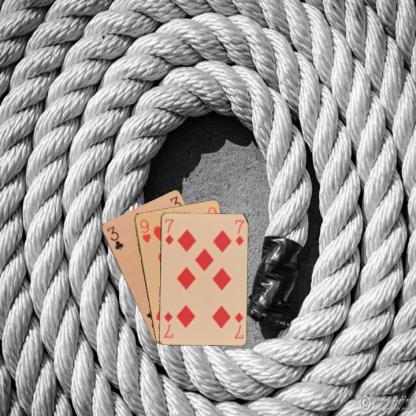3c: (104, 223, 124, 251)
7d: (162, 217, 174, 246), (232, 310, 244, 339)
9h: (137, 217, 152, 244)
